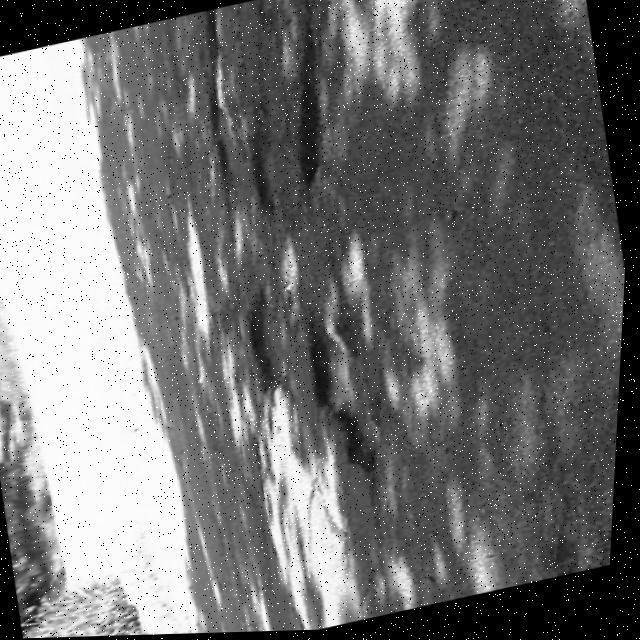pothole: (284, 290, 424, 496), (275, 12, 370, 195), (228, 282, 320, 405), (232, 95, 308, 222)
